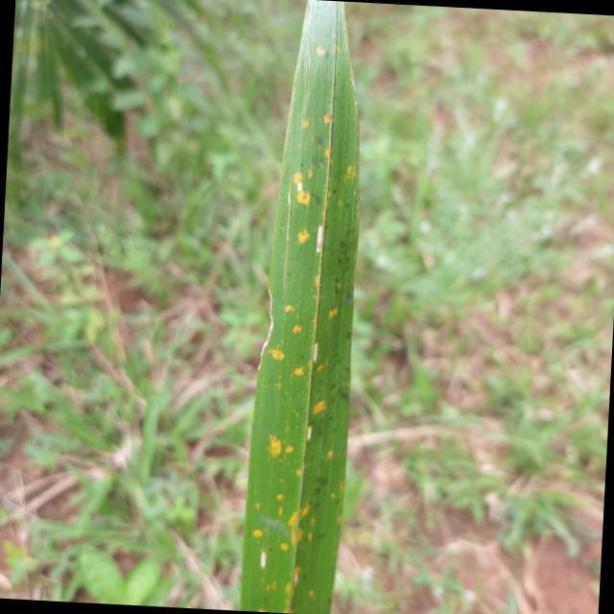Kalium: (236, 0, 364, 614)
